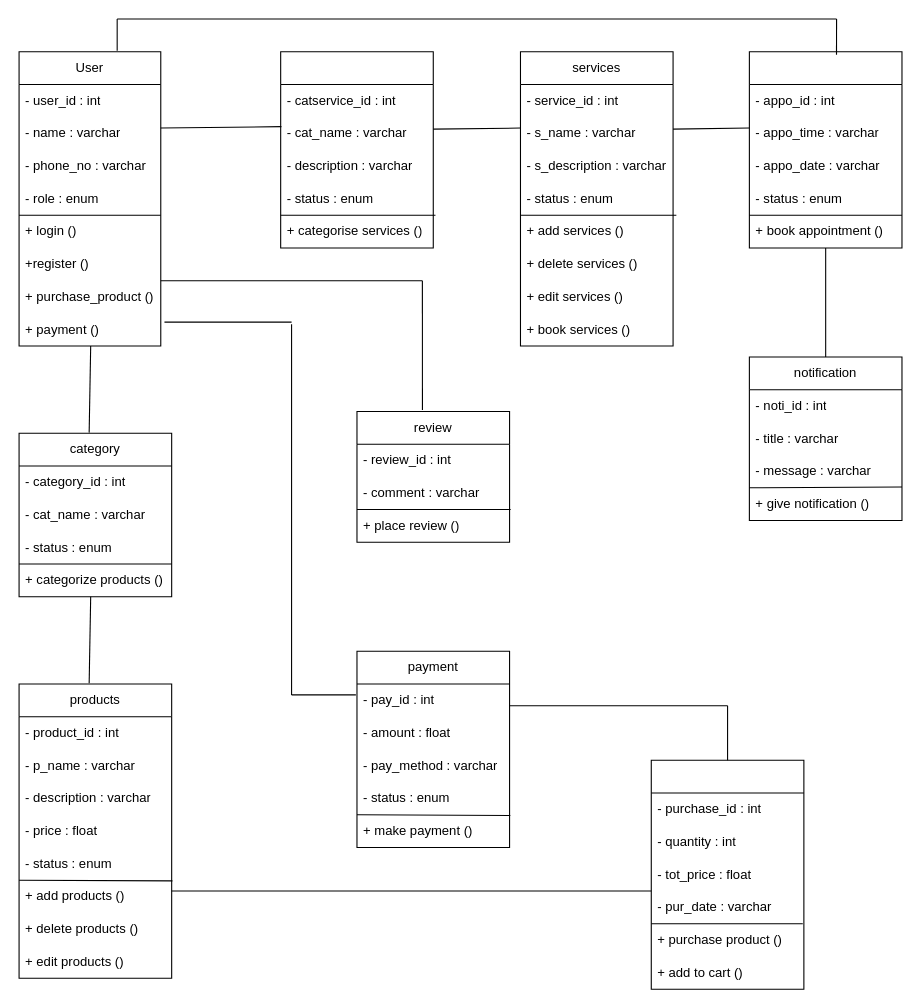
Some shapes in this 922 by 1008 pixel diagram are drawn without their labels. Here are the shapes that lost their labels. From the top down, the box of each, then its label:
(280, 51, 433, 248): category_service
(748, 51, 902, 248): appointments
(650, 759, 804, 989): product_purchase
